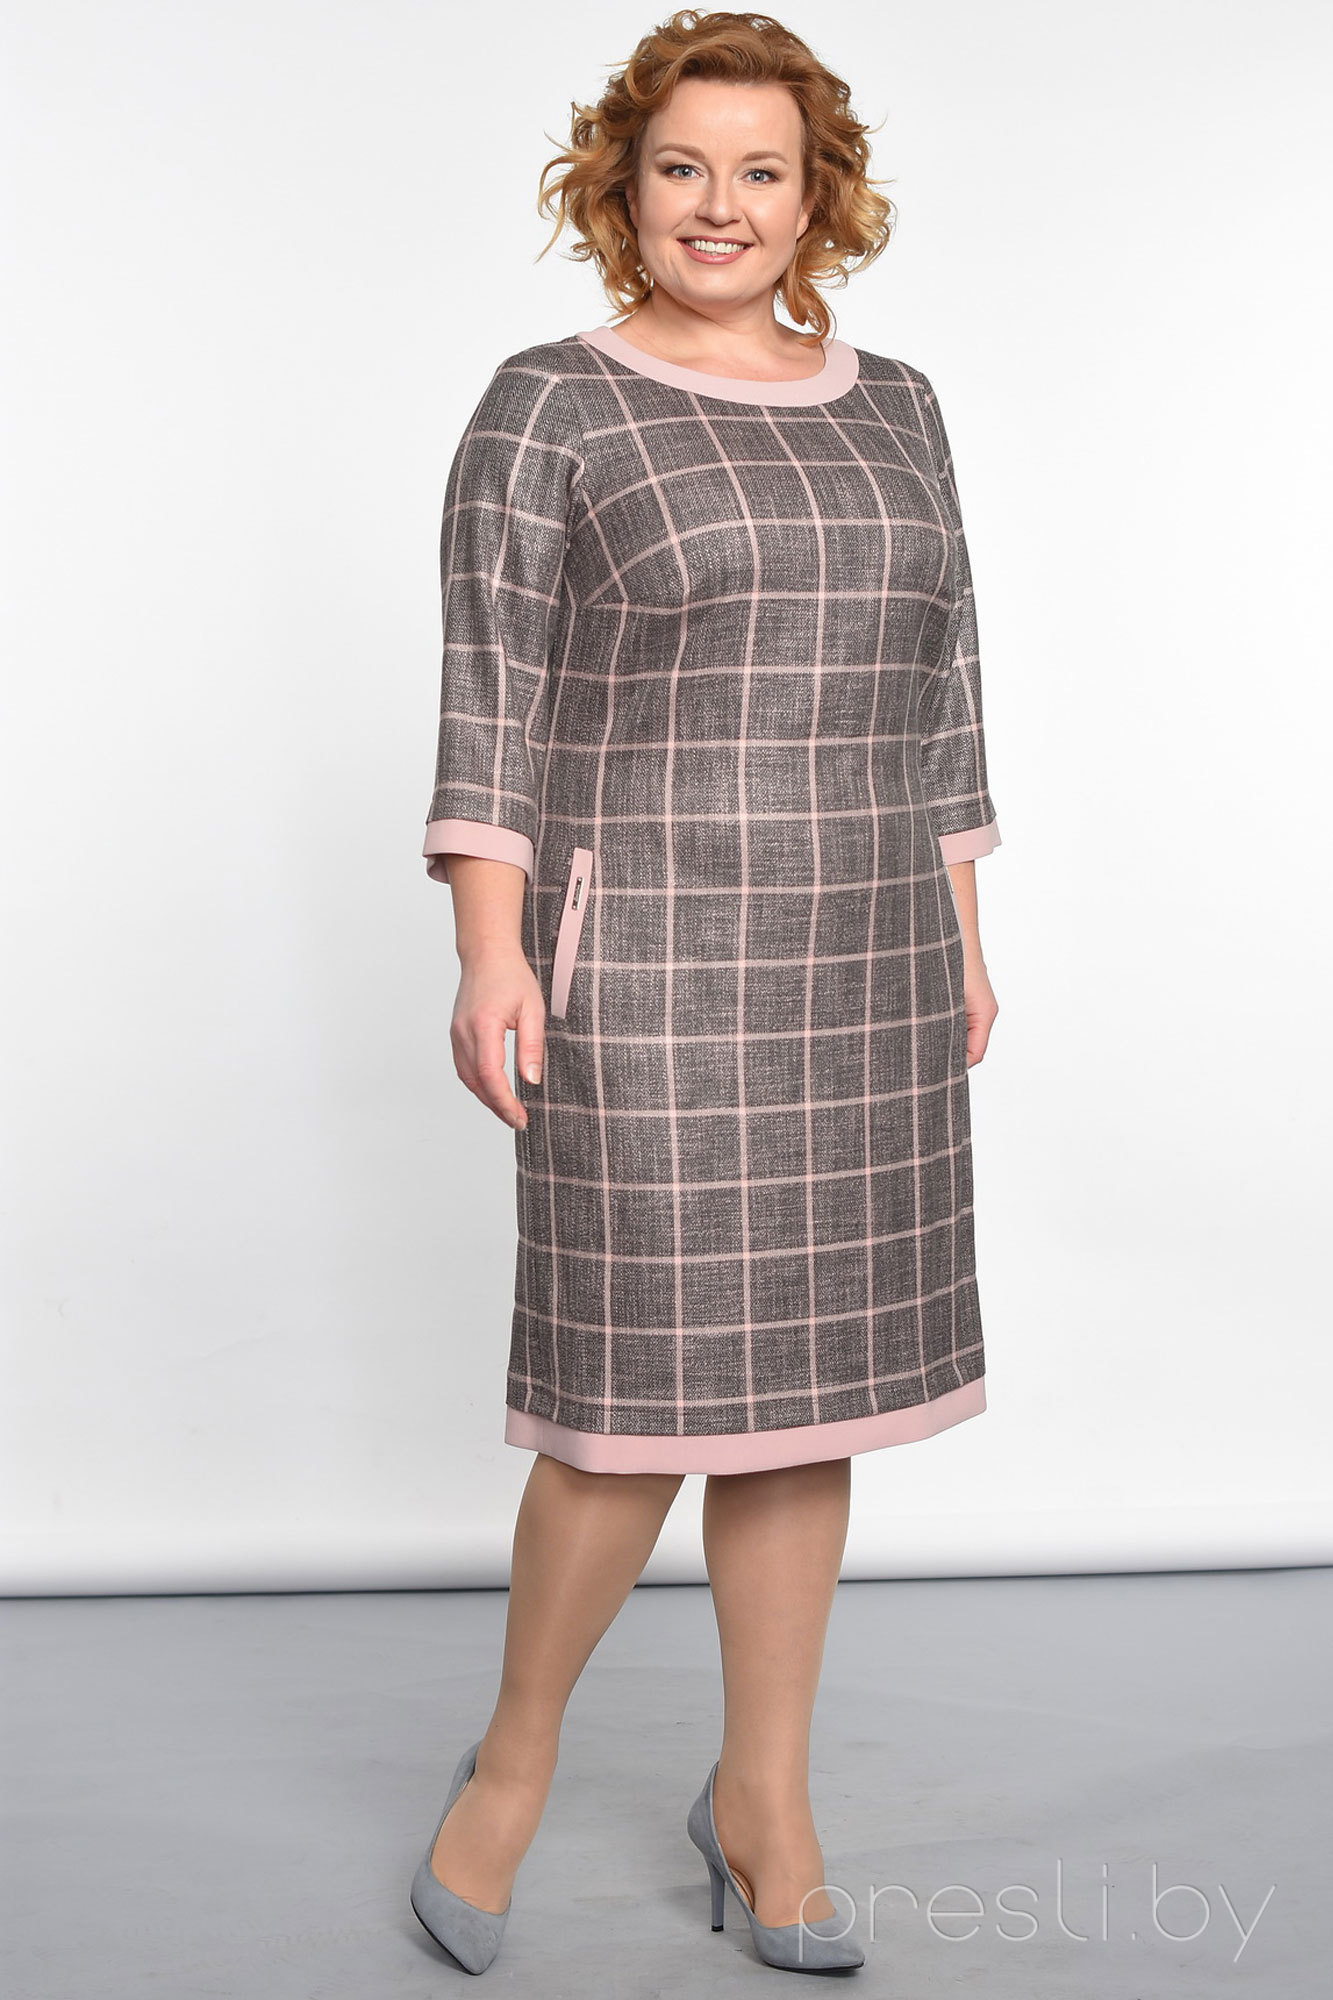squared: (402, 317, 1027, 1471)
